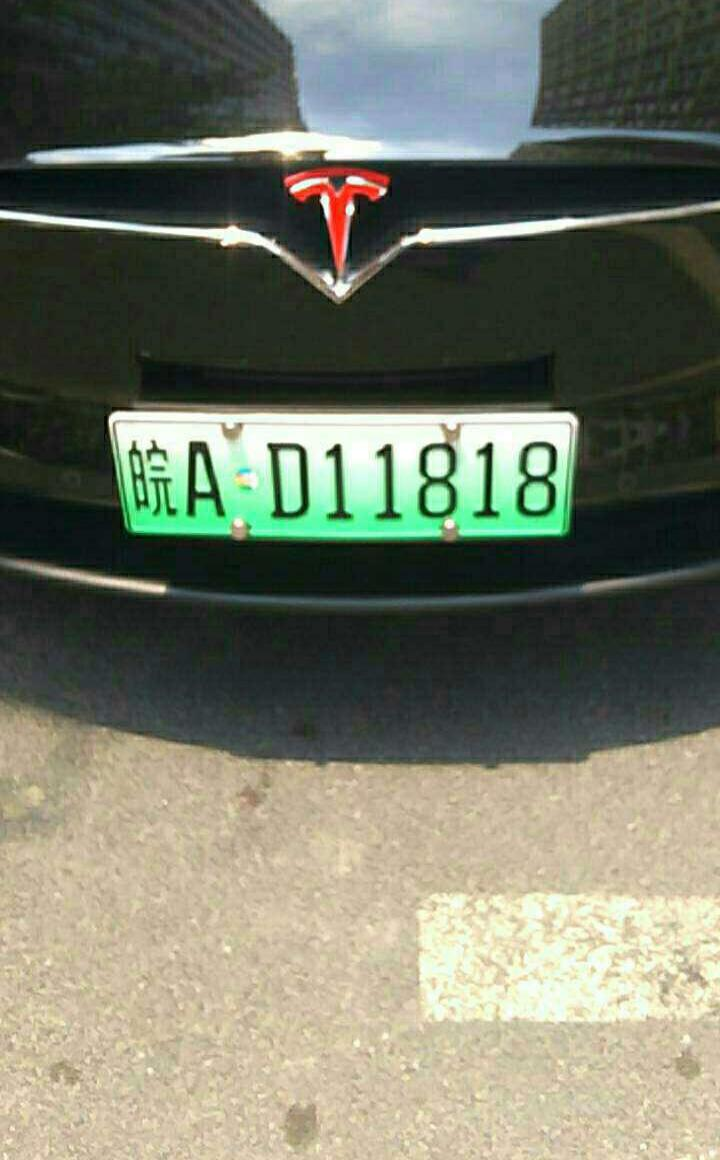car_id: (118, 411, 574, 536)
